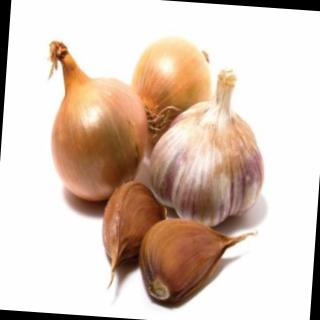Bawang Putih: (146, 96, 271, 229), (47, 57, 154, 205), (135, 214, 255, 310), (128, 32, 216, 137), (99, 178, 171, 278)
